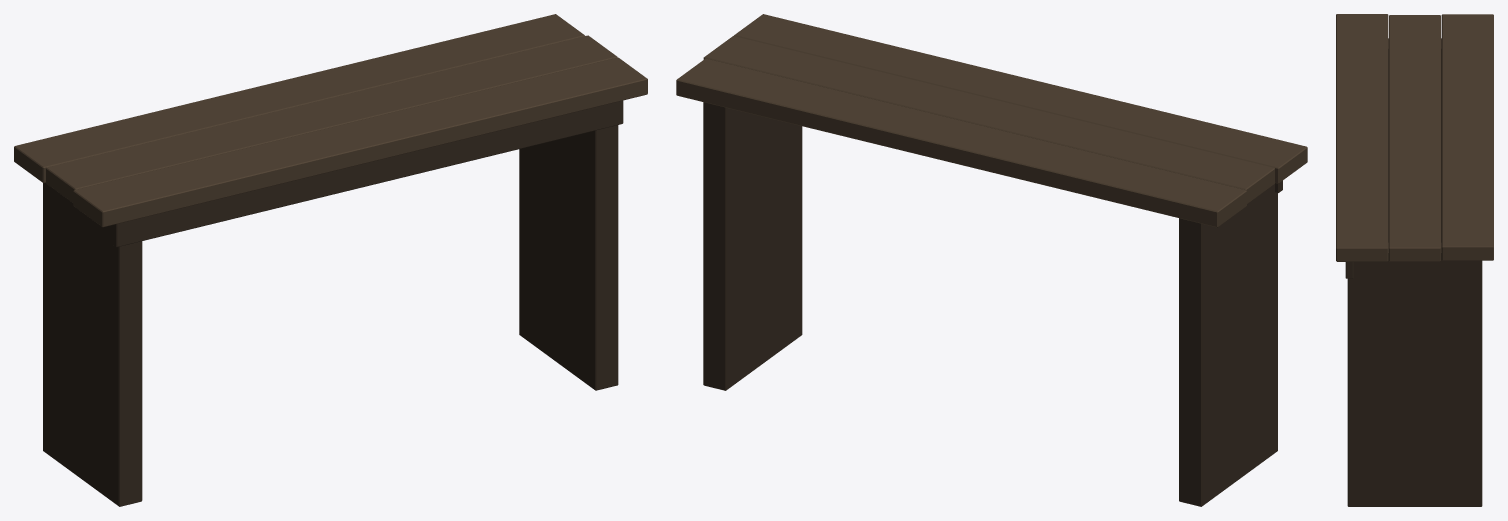
File: table.glb
3 views of the same model, side by side, from view 1: azimuth 30°, elevation 25°; view 2: azimuth 150°, elevation 25°; view 3: azimuth 270°, elevation 25° (orthographic). The views are drawn at different scales.
Parts seen in each view (by area): view 1: table; view 2: table; view 3: table.
Part boxes in pixels (x1,y1,x2,y2): table: (14,14,647,506); table: (676,14,1307,506); table: (1336,14,1493,506).
Bounding box in the file's own units: 1.4 × 0.7499 × 0.398.
